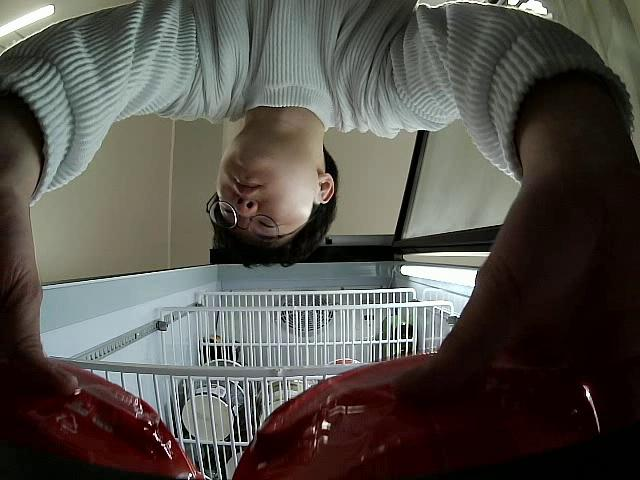00_hand: (0, 171, 80, 397)
10_wangTtukkeong: (234, 356, 597, 480), (0, 361, 208, 480)
